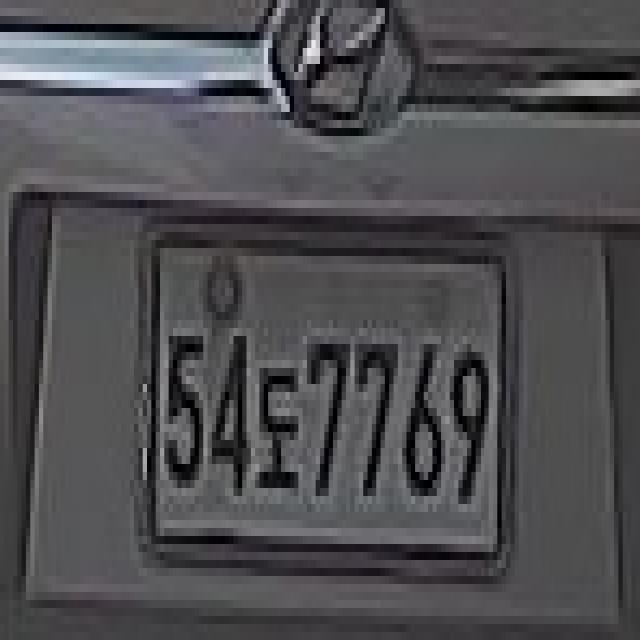4: (208, 312, 260, 504)
5: (160, 304, 212, 504)
6: (398, 320, 445, 520)
7: (350, 312, 402, 504), (307, 328, 350, 504)
9: (449, 312, 488, 520)
do: (246, 344, 298, 504)
license_plate: (134, 224, 519, 576)
